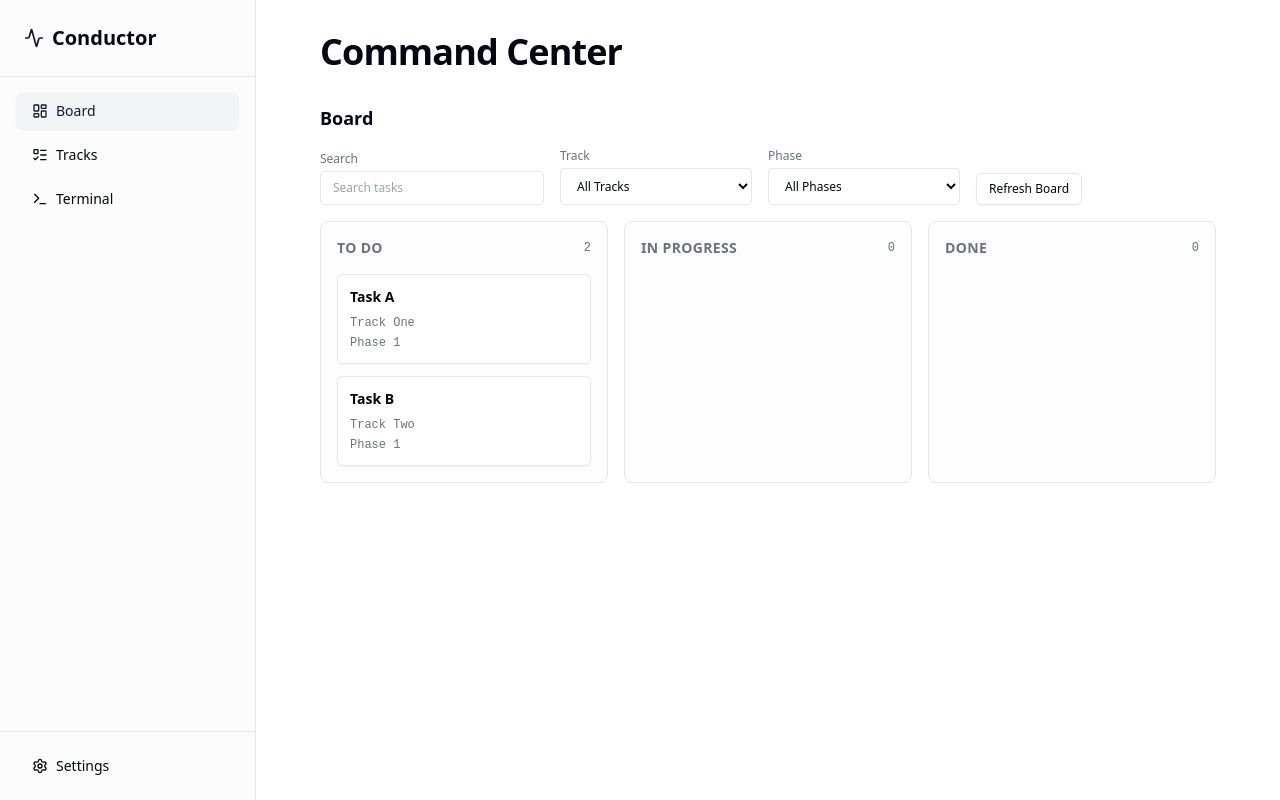
Test case: App Component › shows the full track plan in the Tracks tab
Click the button "Tracks" at (128, 155), box top-left (16, 137), bottom-right (239, 173)
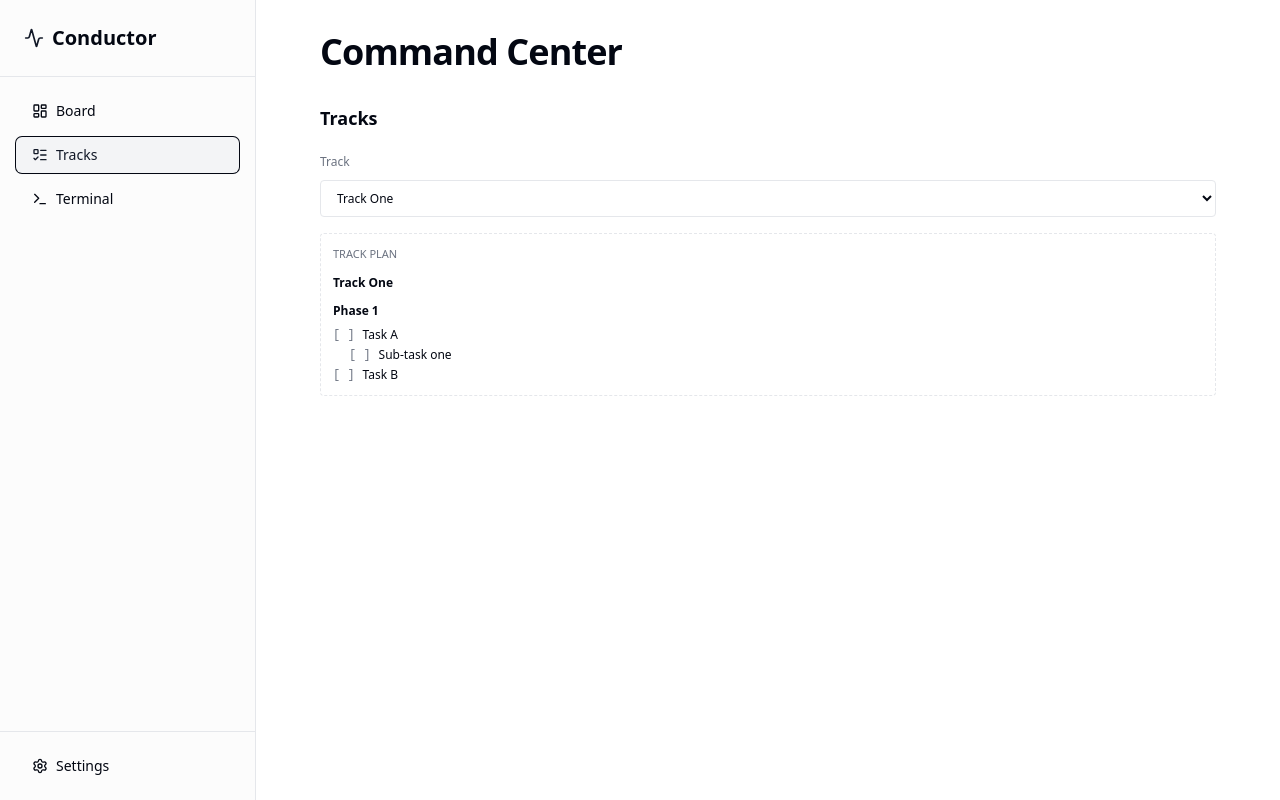
Result: the element with test id "board-tab" is gone
Result: the element with test id "track-plan-view" is shown at top-left (333, 302), bottom-right (452, 382)
Result: the text "Sub-task one" is shown at top-left (379, 346), bottom-right (452, 362)
Select "Track Two" in the dropdown with test id "track-select" at (768, 198), box top-left (320, 180), bottom-right (1216, 217)
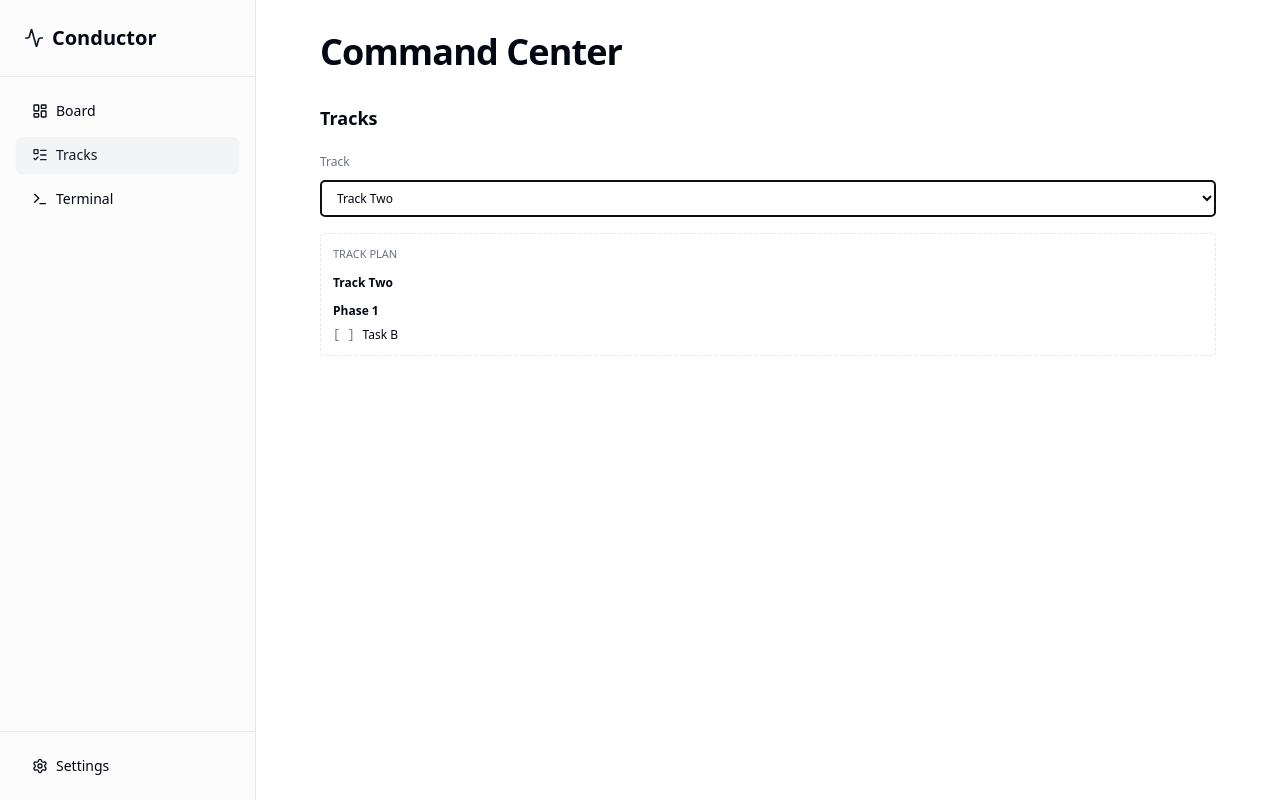
Click the button "Board" at (128, 111), box top-left (16, 93), bottom-right (239, 129)
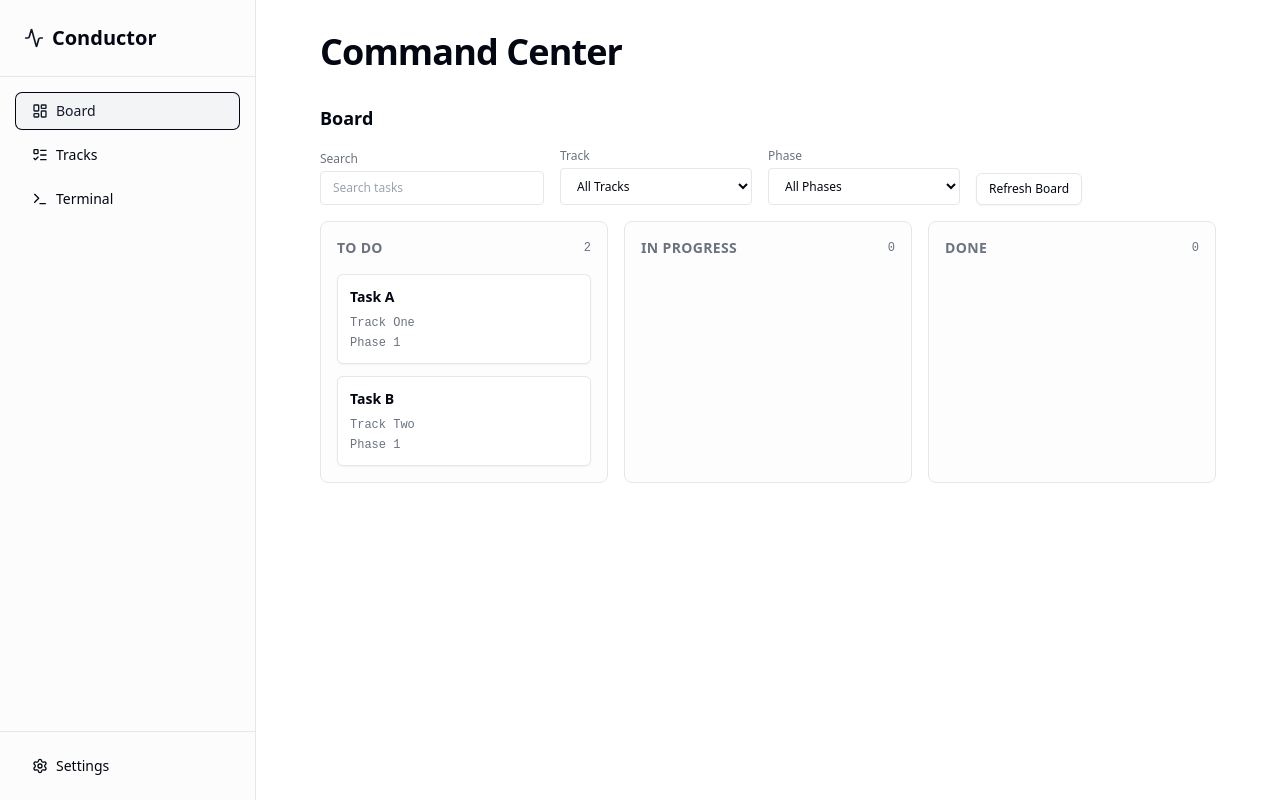
Result: the element with test id "board-tab" is shown at top-left (320, 104), bottom-right (1216, 483)
